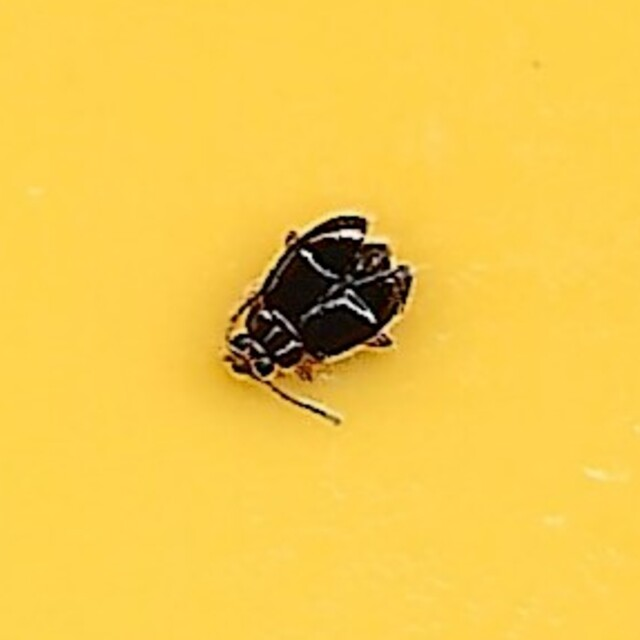Coleoptera: (223, 214, 417, 426)
